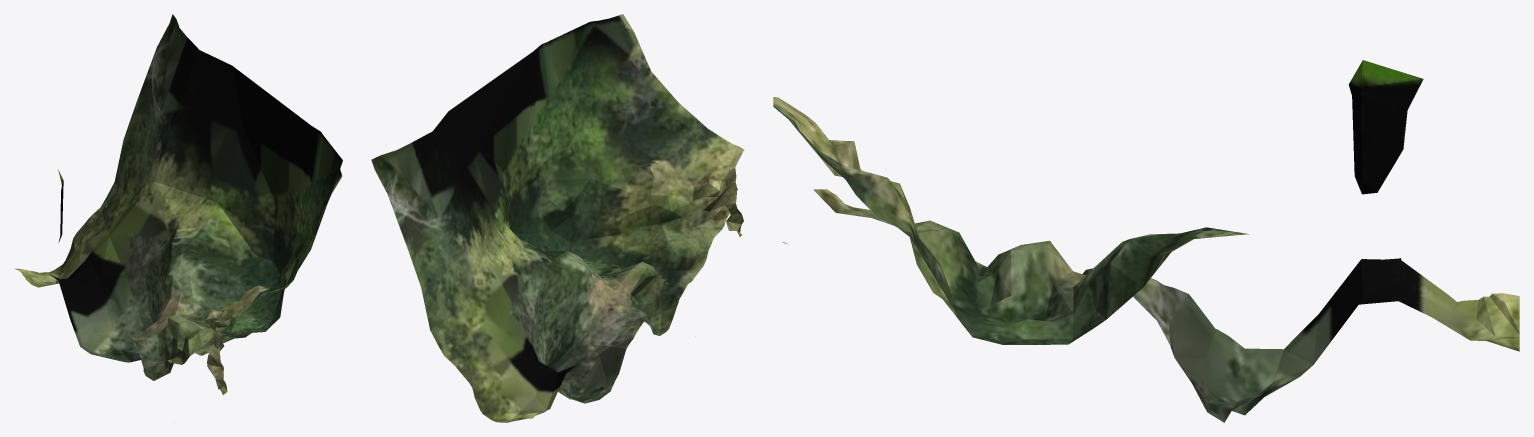
The picture shows the model from 3 angles, left to right: view 1: azimuth 30°, elevation 25°; view 2: azimuth 150°, elevation 25°; view 3: azimuth 270°, elevation 25°; orthographic projection. The views are drawn at different scales.
Bounding box in the file's own units: 10.34 × 16.4 × 23.6.
Materials: 2 (2 with a texture image).
